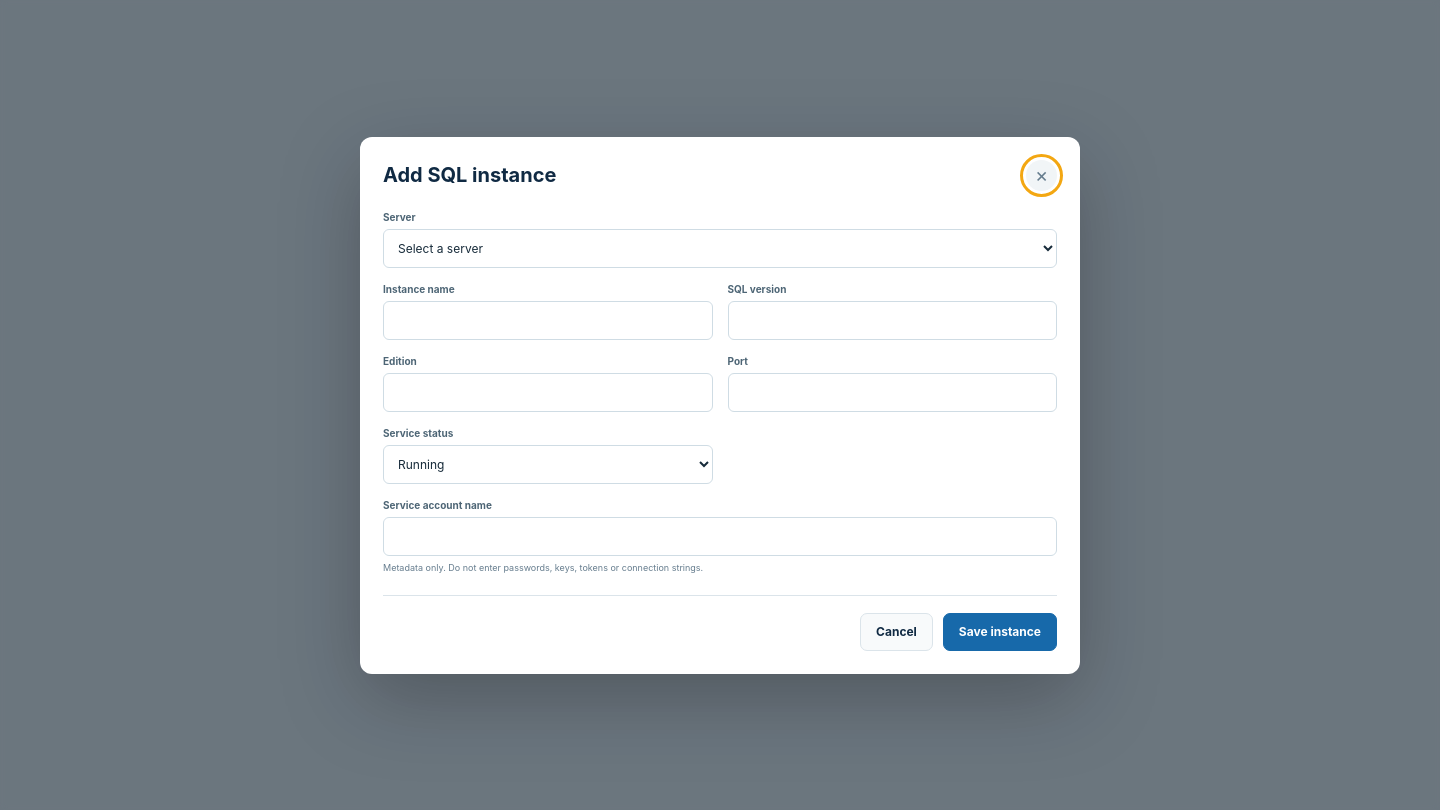
Test: SQL inventory forms › links required instance validation to an announced summary
Click the button "Save instance".
click(1000, 632)  # box [943,612,1057,650]
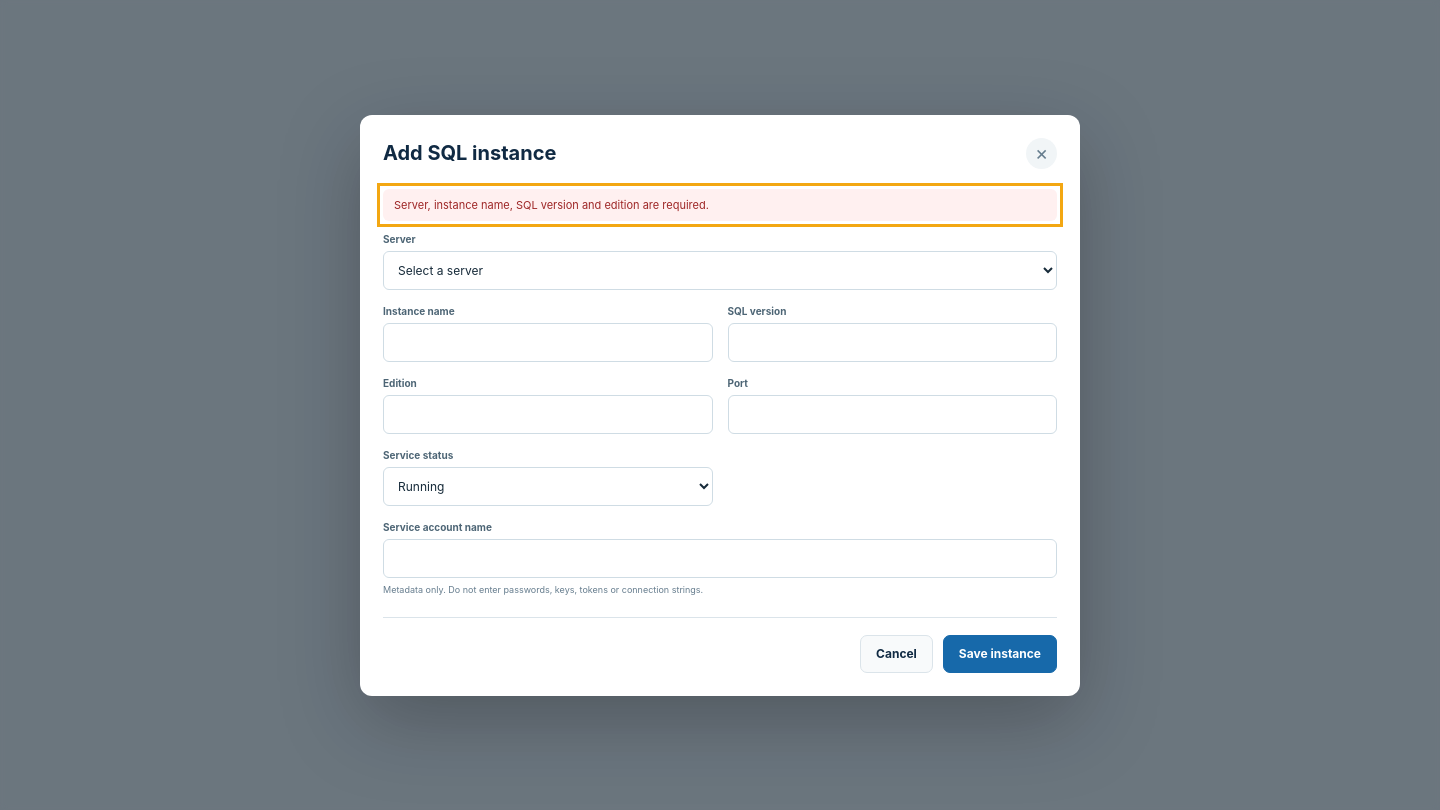
Expected: the message shows "required", [394,198,709,212]
